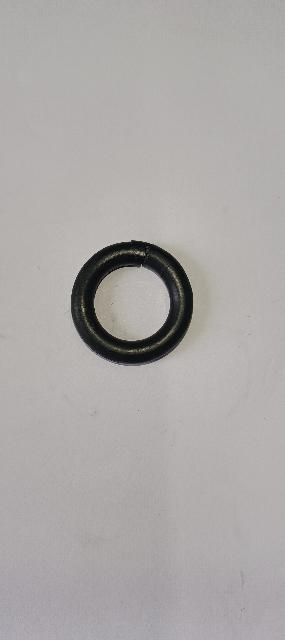crack: (135, 242, 155, 269)
scratch: (160, 259, 178, 280)
